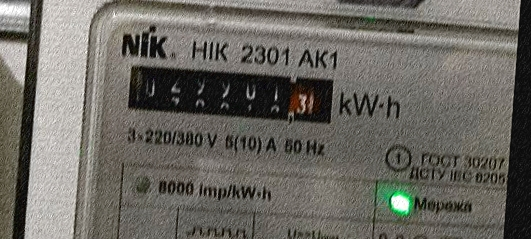0: (242, 76, 259, 102), (141, 74, 158, 97)
1: (269, 78, 283, 102)
2: (167, 71, 184, 94)
3: (293, 91, 310, 115)
9: (218, 76, 232, 100), (193, 73, 207, 95)
screen: (118, 56, 343, 134)
